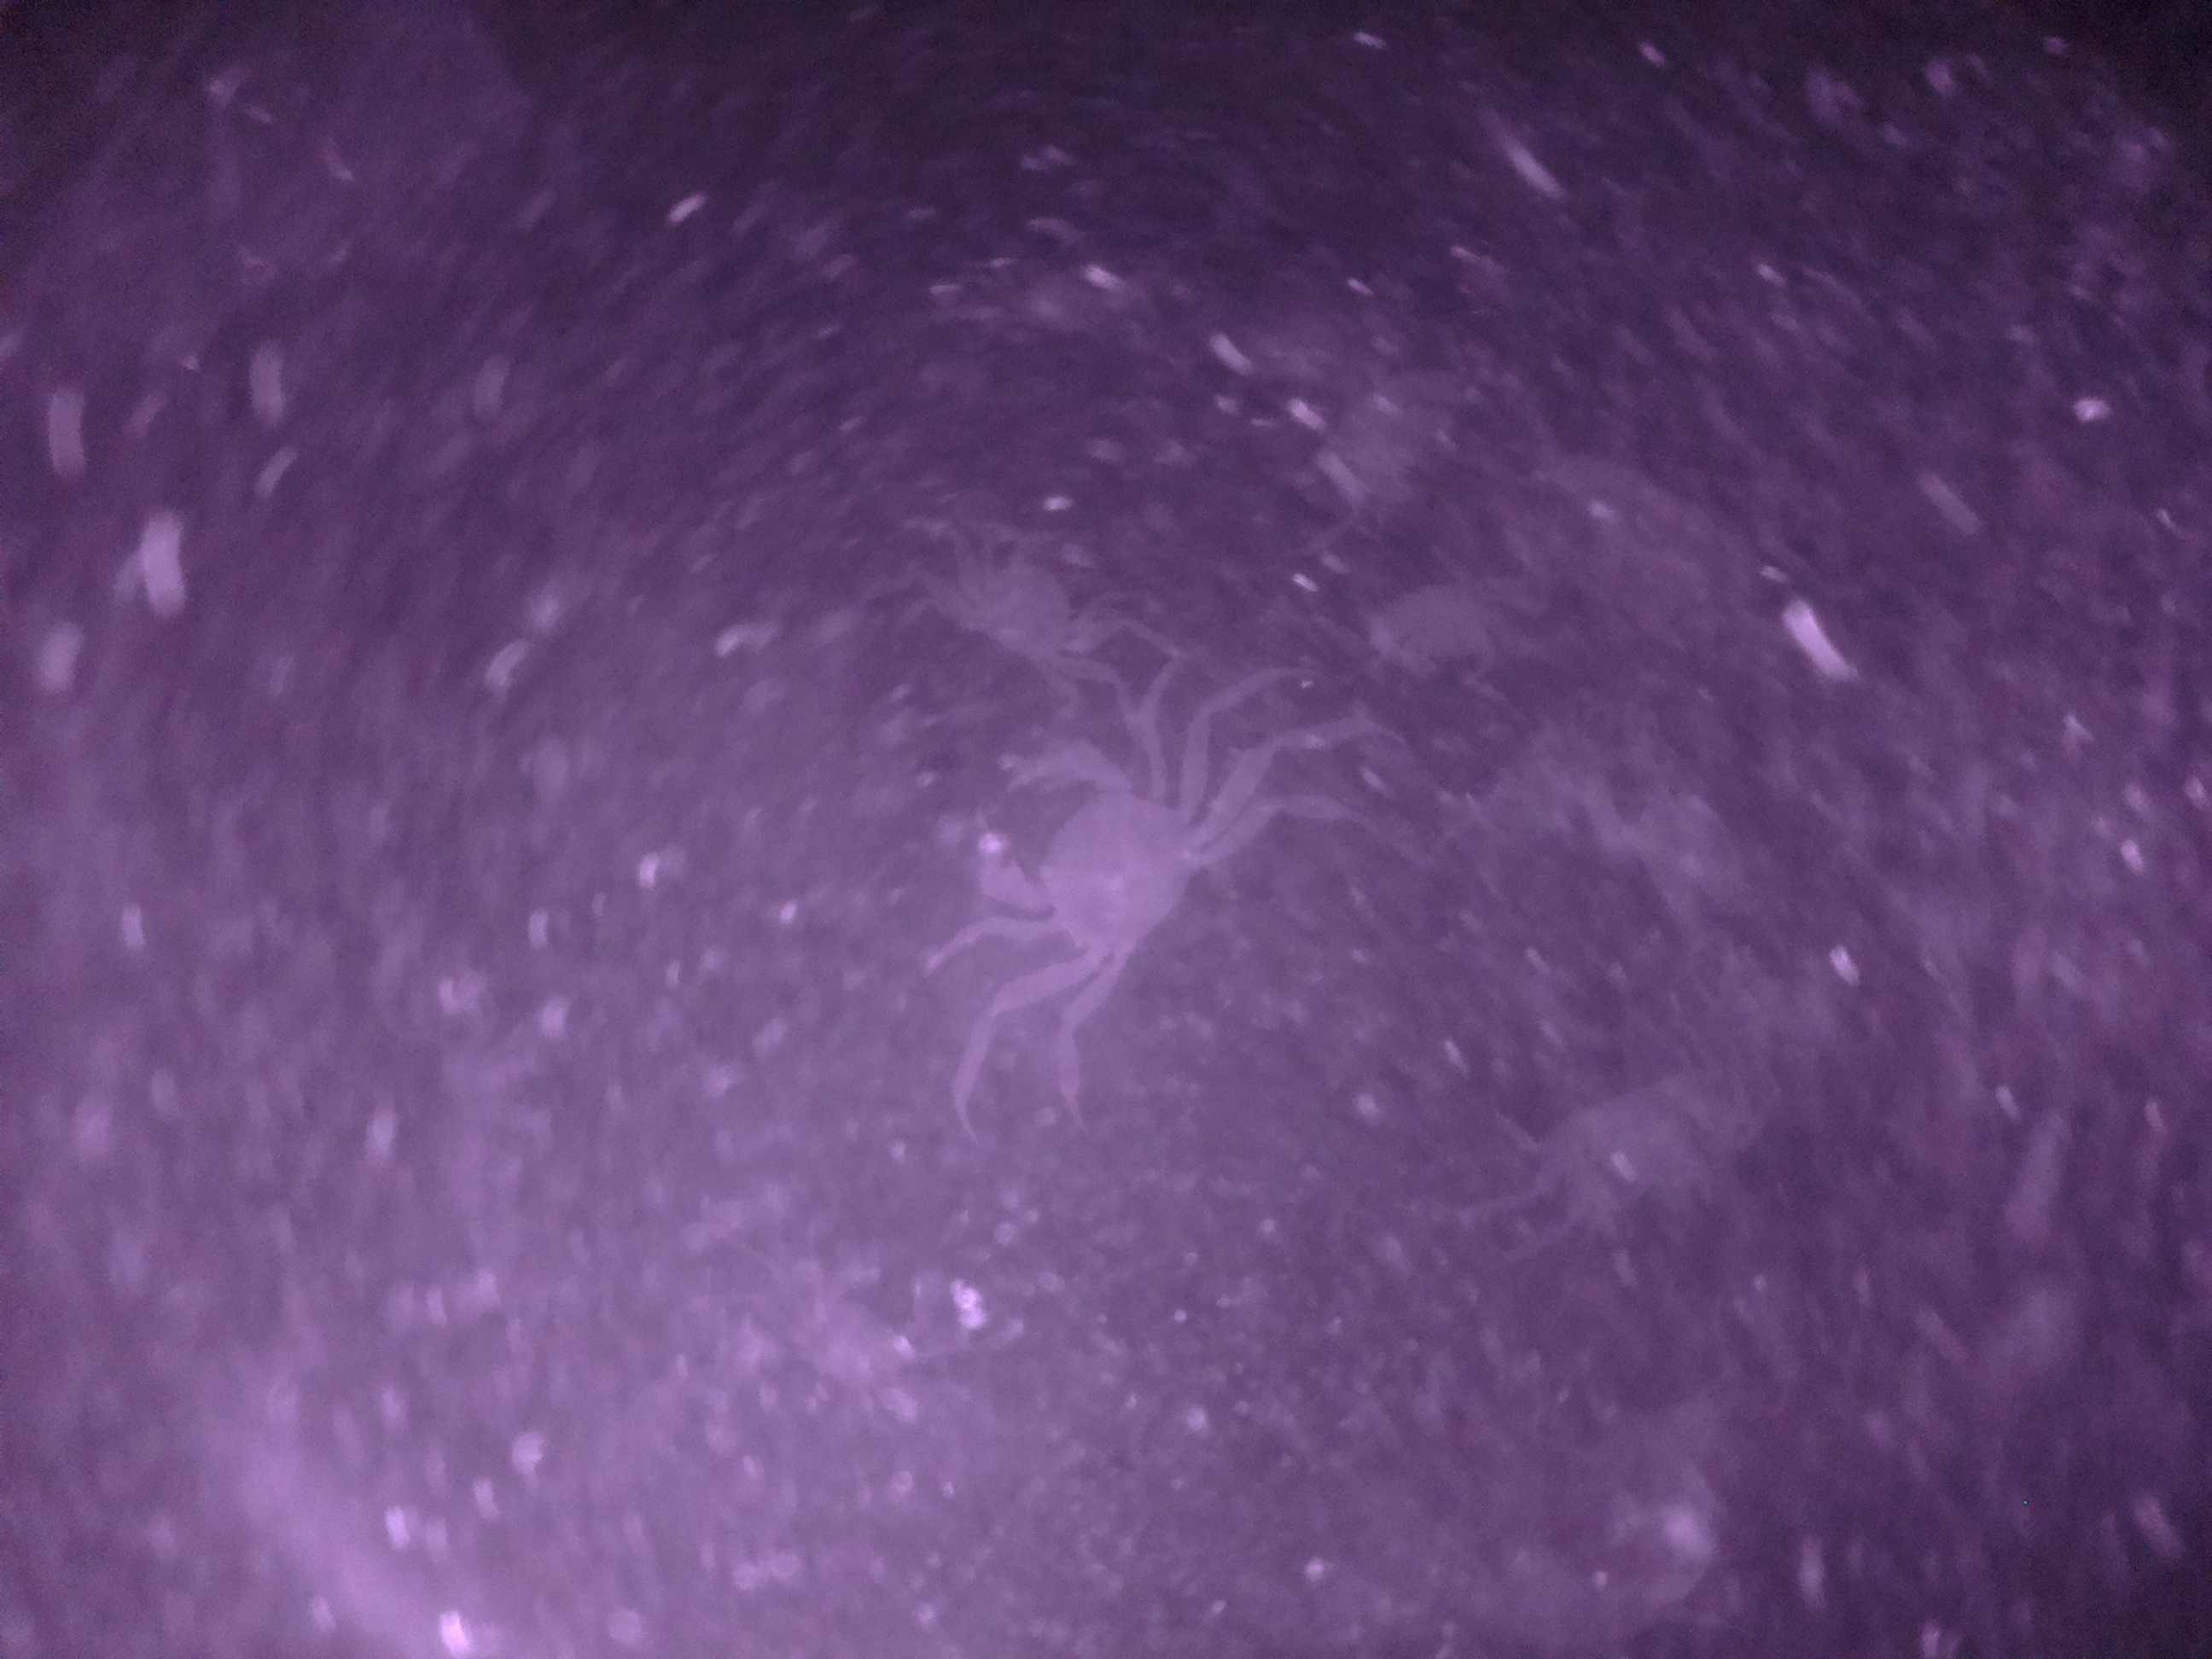Crab: (953, 714, 1212, 1016), (951, 500, 1113, 697)
